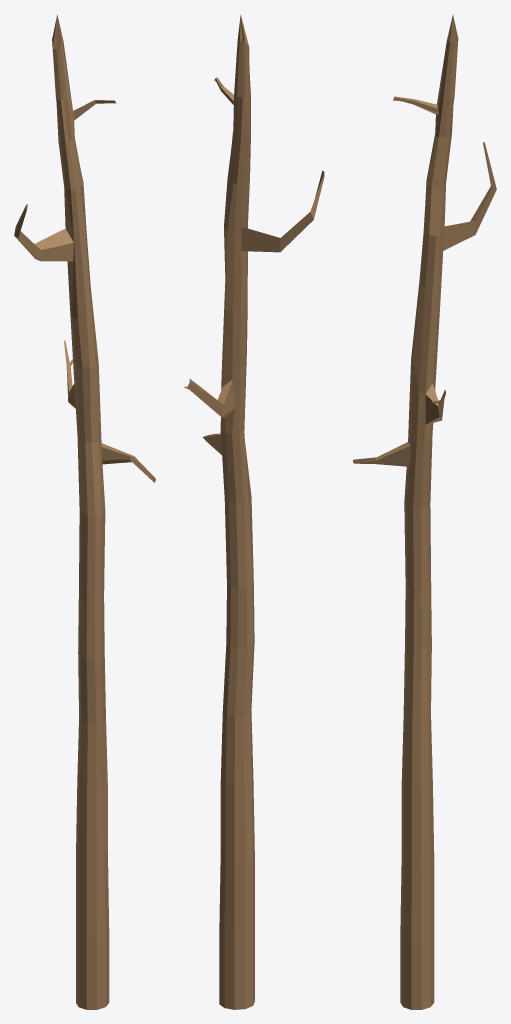
File: fbxTalltreeee.fbx
The picture shows the model from 3 angles, left to right: view 1: azimuth 90°, elevation 25°; view 2: azimuth 210°, elevation 25°; view 3: azimuth 270°, elevation 25°; orthographic projection. The views are drawn at different scales.
Visible parts, largest first — view 1: pCylinder6; view 2: pCylinder6; view 3: pCylinder6.
Part boxes in pixels (x1=…): pCylinder6: x1=14, y1=15, x2=155, y2=1009; pCylinder6: x1=184, y1=15, x2=324, y2=1009; pCylinder6: x1=353, y1=15, x2=496, y2=1009.
Bounding box in the file's own units: 3.46 × 28.23 × 3.69.
